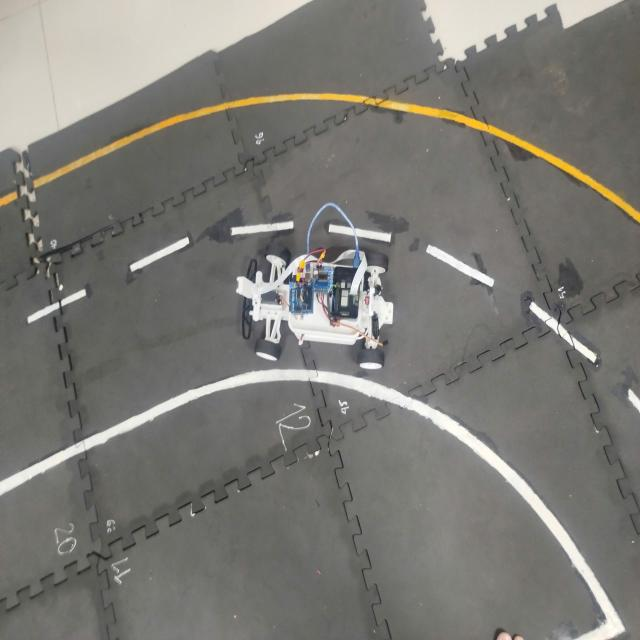SiCo-CAR: (234, 202, 395, 371)
